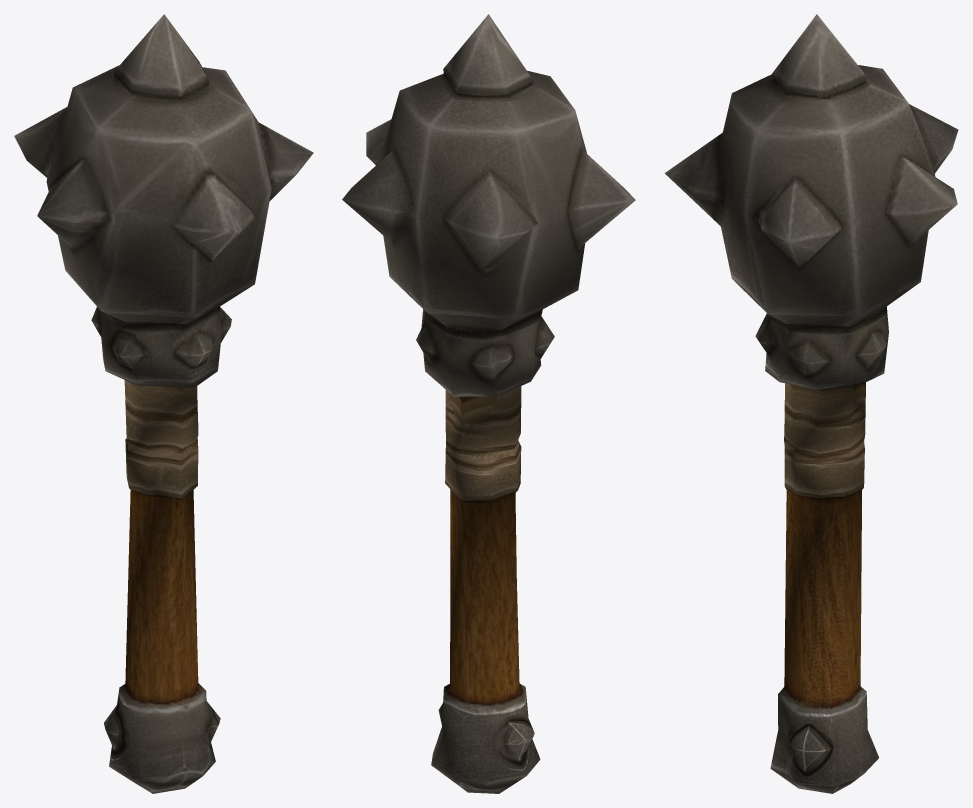
File: 1HMace.fbx
The picture shows the model from 3 angles, left to right: view 1: azimuth 30°, elevation 25°; view 2: azimuth 150°, elevation 25°; view 3: azimuth 270°, elevation 25°; orthographic projection.
Parts seen in each view (by area): view 1: tripo_node_81df50be; view 2: tripo_node_81df50be; view 3: tripo_node_81df50be.
Part boxes in pixels (x1,y1,x2,y2): tripo_node_81df50be: (14, 14, 313, 793); tripo_node_81df50be: (342, 14, 635, 793); tripo_node_81df50be: (664, 14, 958, 793).
Bounding box in the file's own units: 21.12 × 56.89 × 19.69.
Materials: 1 (1 with a texture image).
